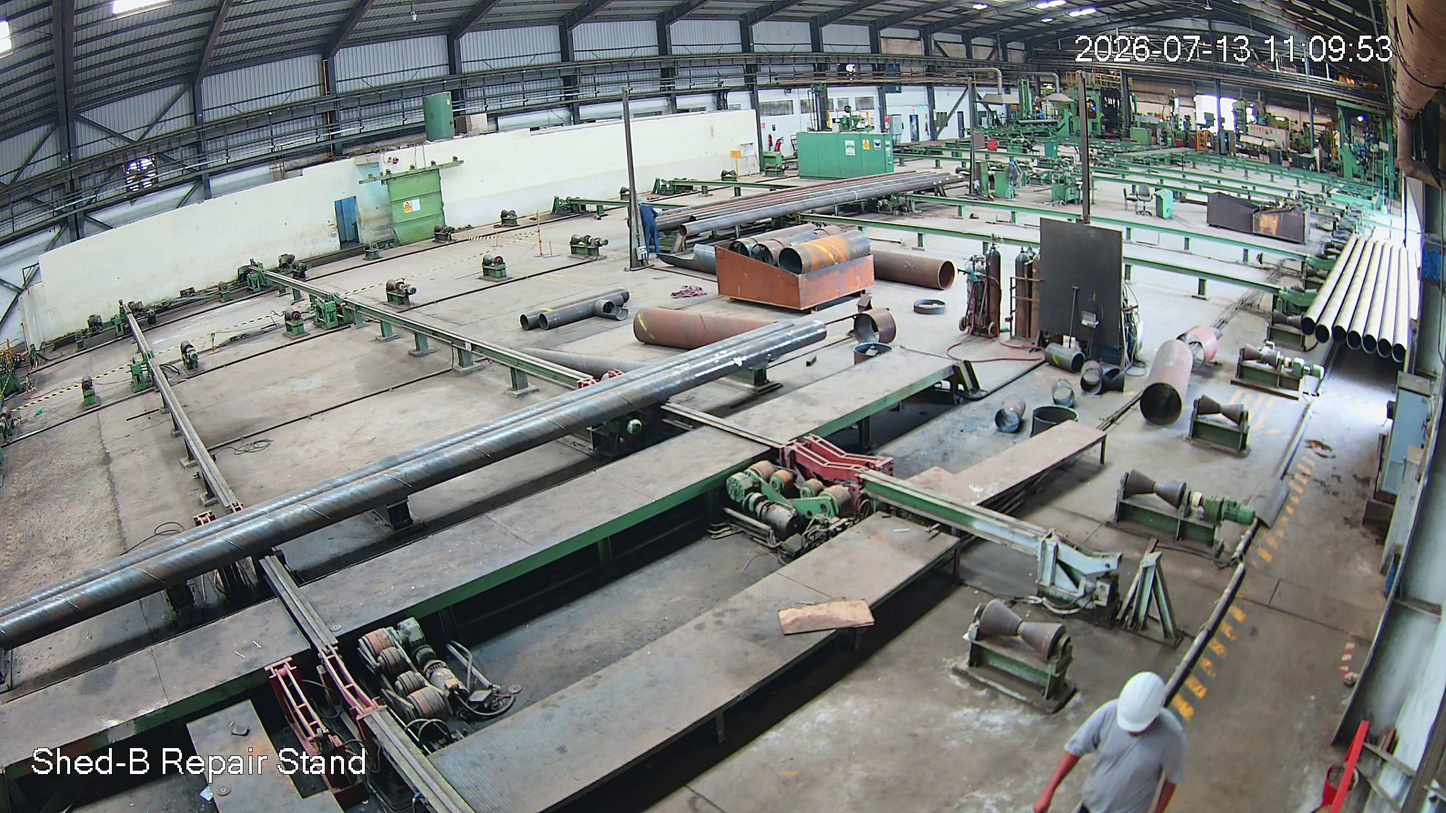Helmet: (1107, 666, 1187, 752)
Person: (1054, 670, 1199, 813), (636, 198, 665, 261)
